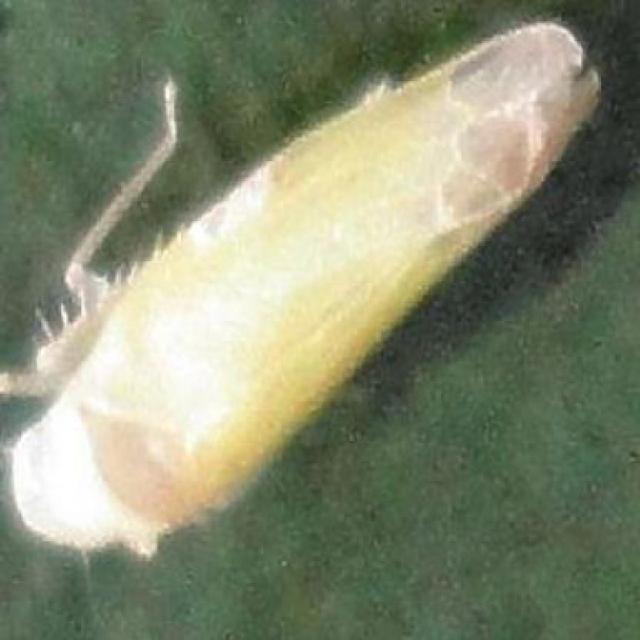green-leafhopper: (3, 24, 608, 561)
